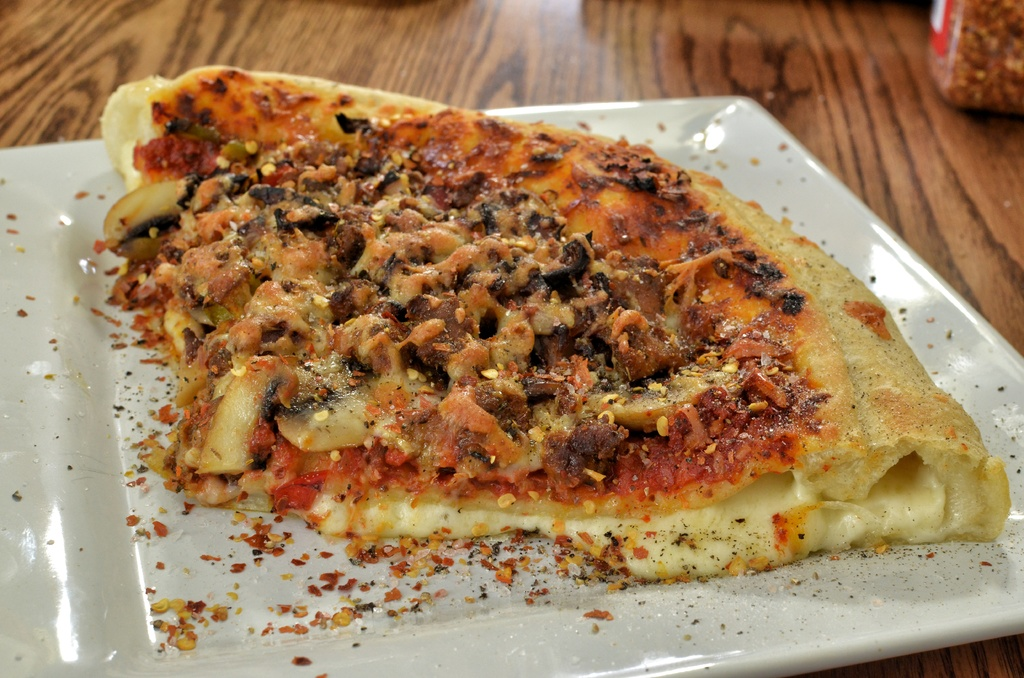Pizza: (67, 107, 983, 585)
